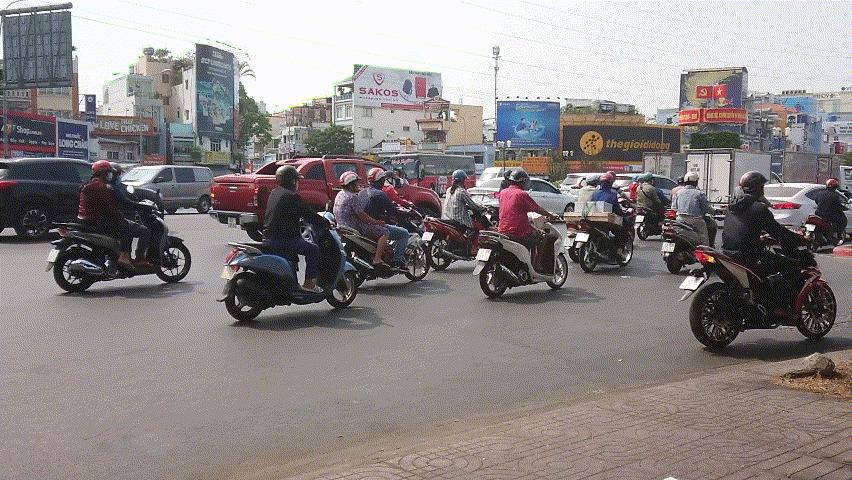driver: (680, 171, 838, 351), (215, 164, 359, 321), (44, 159, 190, 294), (472, 168, 569, 298), (332, 167, 431, 287), (420, 169, 496, 271), (659, 171, 722, 275), (576, 172, 636, 273), (804, 177, 852, 253)
helmet: (739, 171, 770, 201), (275, 164, 304, 194), (92, 160, 117, 183), (339, 170, 361, 193), (508, 168, 529, 191), (368, 168, 387, 191), (451, 170, 468, 189), (684, 171, 700, 188), (599, 173, 615, 190), (585, 172, 600, 188), (825, 179, 839, 193), (643, 173, 655, 185)
